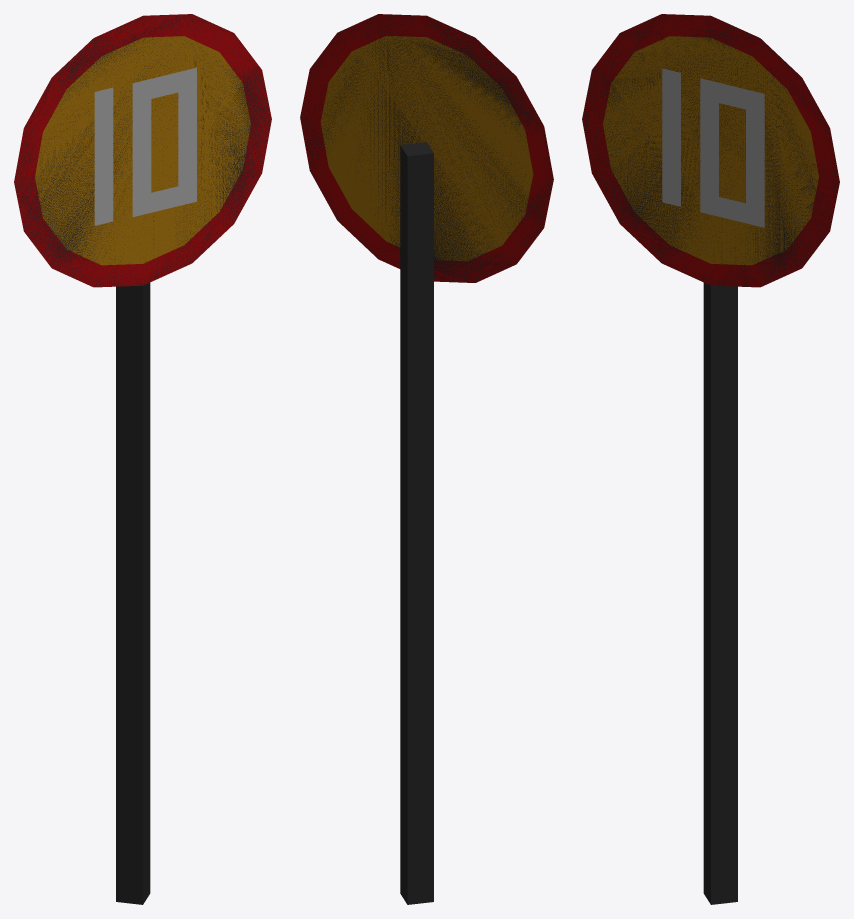
Rendered from 10kmh.obj.
The picture shows the model from 3 angles, left to right: view 1: azimuth 30°, elevation 25°; view 2: azimuth 150°, elevation 25°; view 3: azimuth 330°, elevation 25°; orthographic projection.
Visible parts, largest first — view 1: Cylinder.007; view 2: Cylinder.007; view 3: Cylinder.007.
Boxes of the visible parts, x1,y1,x2,y2 form: Cylinder.007: [14, 14, 271, 904]; Cylinder.007: [300, 14, 553, 904]; Cylinder.007: [582, 14, 839, 904].
Size of the model in its own units: 0.8957 by 2.95 by 0.1199.
